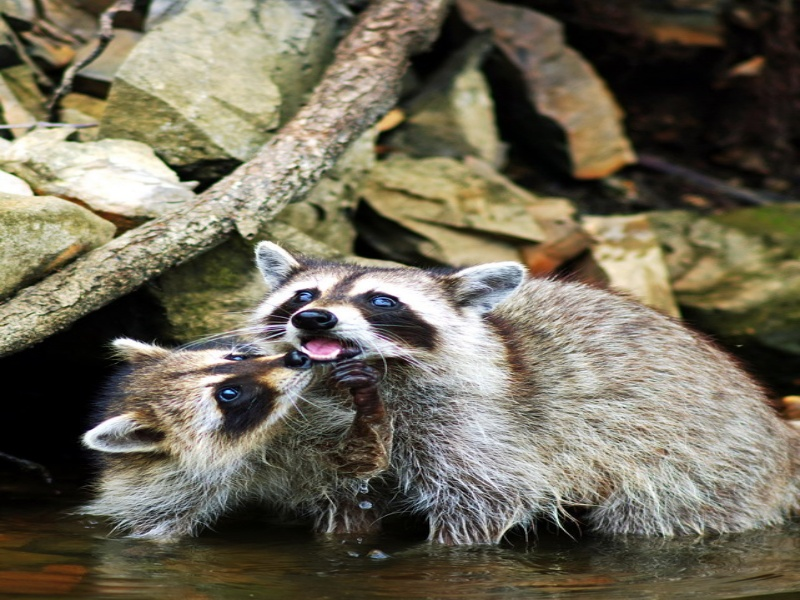raccoon: (244, 235, 800, 550), (72, 331, 327, 555)
